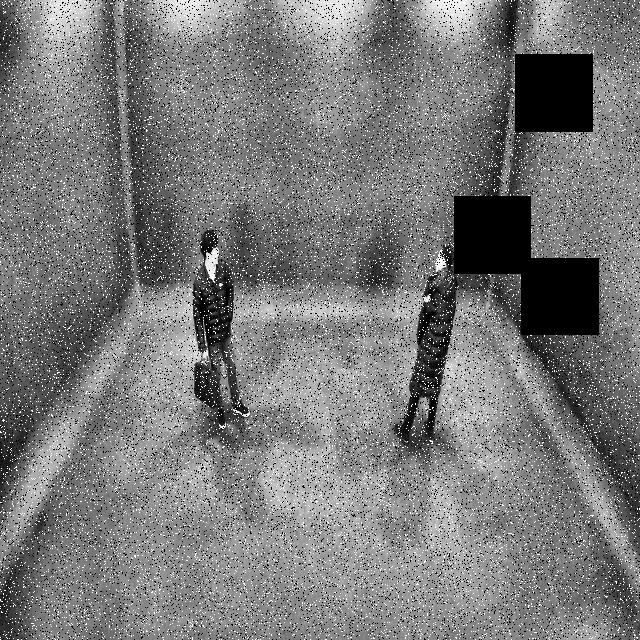assult: (394, 236, 461, 446)
